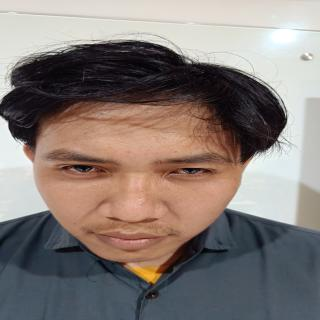Marah: (31, 85, 248, 269)
